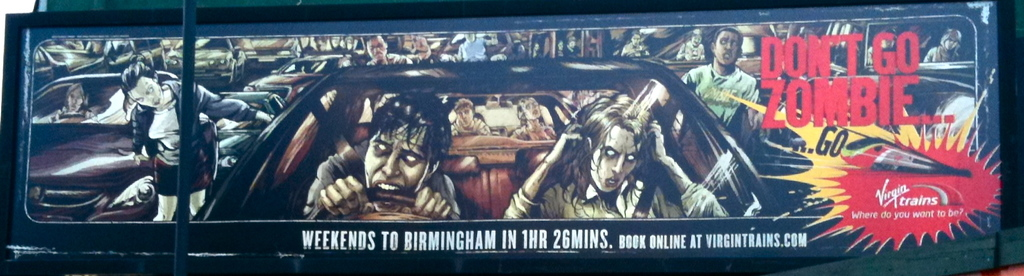Car: (32, 22, 976, 217), (27, 64, 181, 223)
